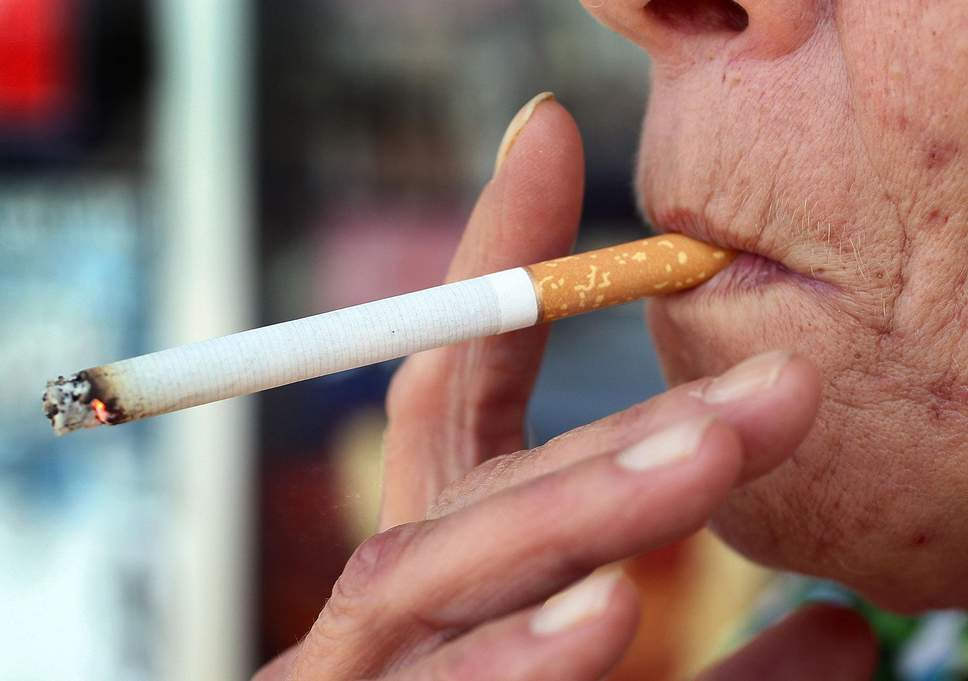cigarette: (32, 223, 726, 445)
